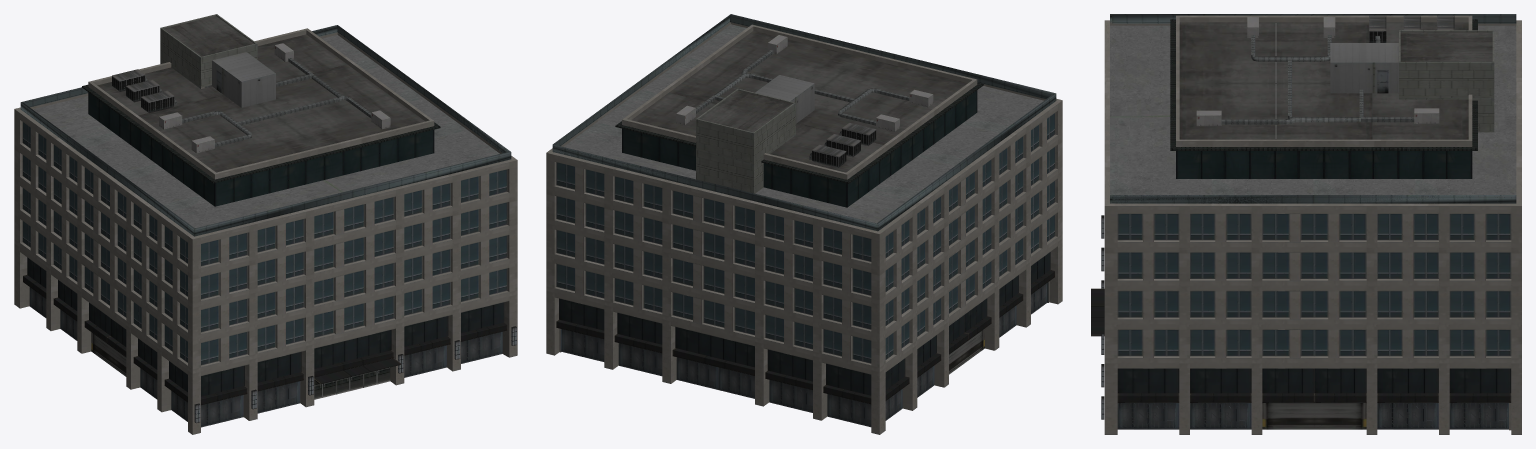
The model's file is grid_block.glb.
The picture shows the model from 3 angles, left to right: view 1: azimuth 30°, elevation 25°; view 2: azimuth 150°, elevation 25°; view 3: azimuth 270°, elevation 25°; orthographic projection. The views are drawn at different scales.
Parts seen in each view (by area): view 1: grid_block; view 2: grid_block; view 3: grid_block.
Boxes of the visible parts, x1,y1,x2,y2 form: grid_block: (14,14,517,434); grid_block: (546,14,1062,434); grid_block: (1091,14,1521,434).
Size of the model in its own units: 32 by 23.76 by 31.37.
1 material, 1 textured.
